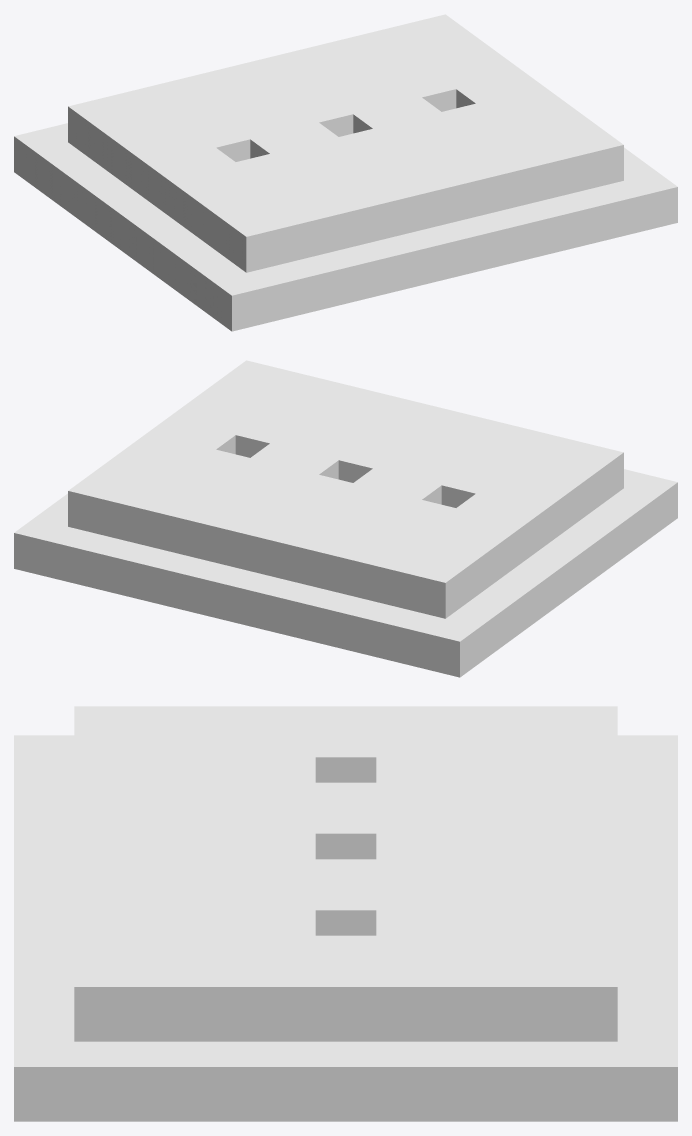
File: presa.gltf
The picture shows the model from 3 angles, top to bottom: view 1: azimuth 30°, elevation 25°; view 2: azimuth 150°, elevation 25°; view 3: azimuth 270°, elevation 25°; orthographic projection. The views are drawn at different scales.
Parts seen in each view (by area): view 1: Layer.1; view 2: Layer.1; view 3: Layer.1.
Part boxes in pixels (x1=…): Layer.1: x1=14, y1=14, x2=677, y2=331; Layer.1: x1=14, y1=360, x2=677, y2=677; Layer.1: x1=14, y1=706, x2=677, y2=1121.
Bounding box in the file's own units: 13 × 2 × 11.
1 material, 1 textured.
